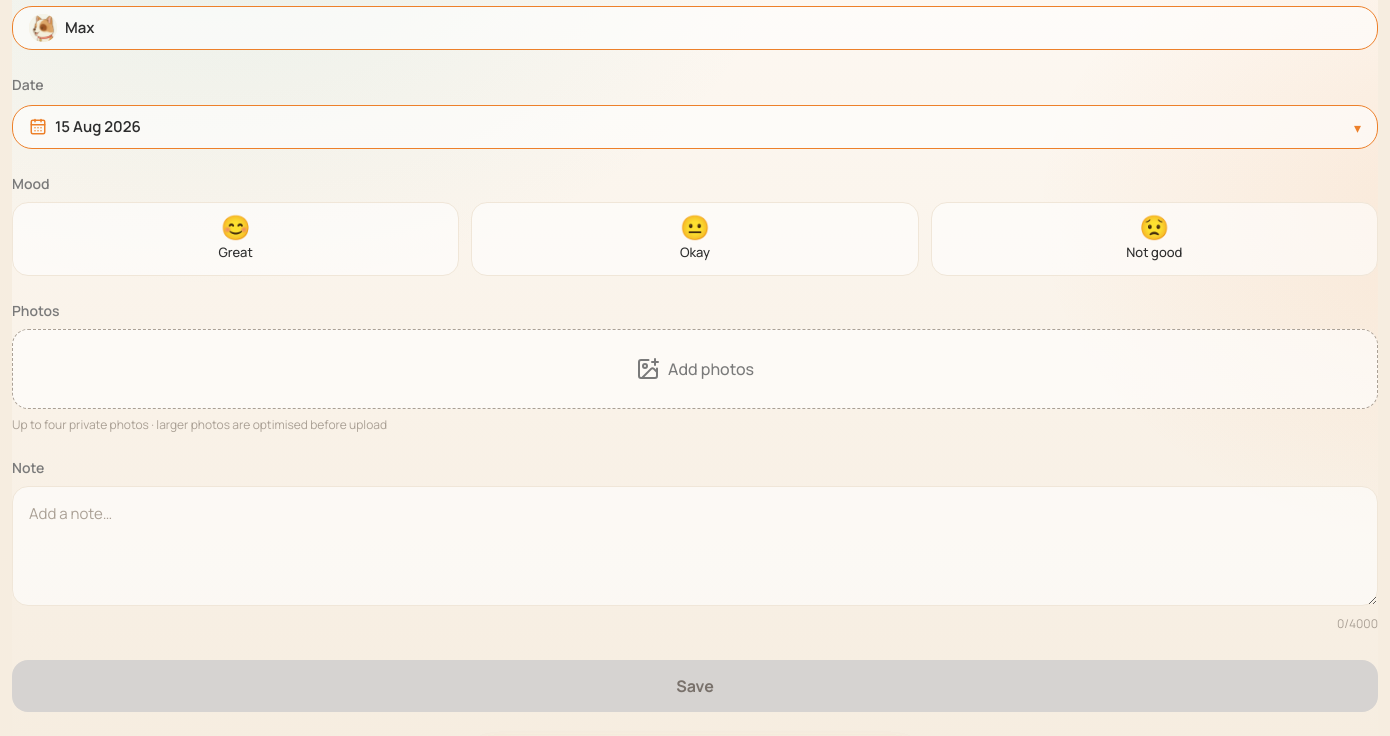
Test: HealthLogForm › keeps save disabled until a wellbeing status is selected
Expected: the button "Save" is disabled, [12,660,1378,712]
Click the button "😊 Great".
click(236, 239)  # box [12,202,459,276]
(page scrolled)
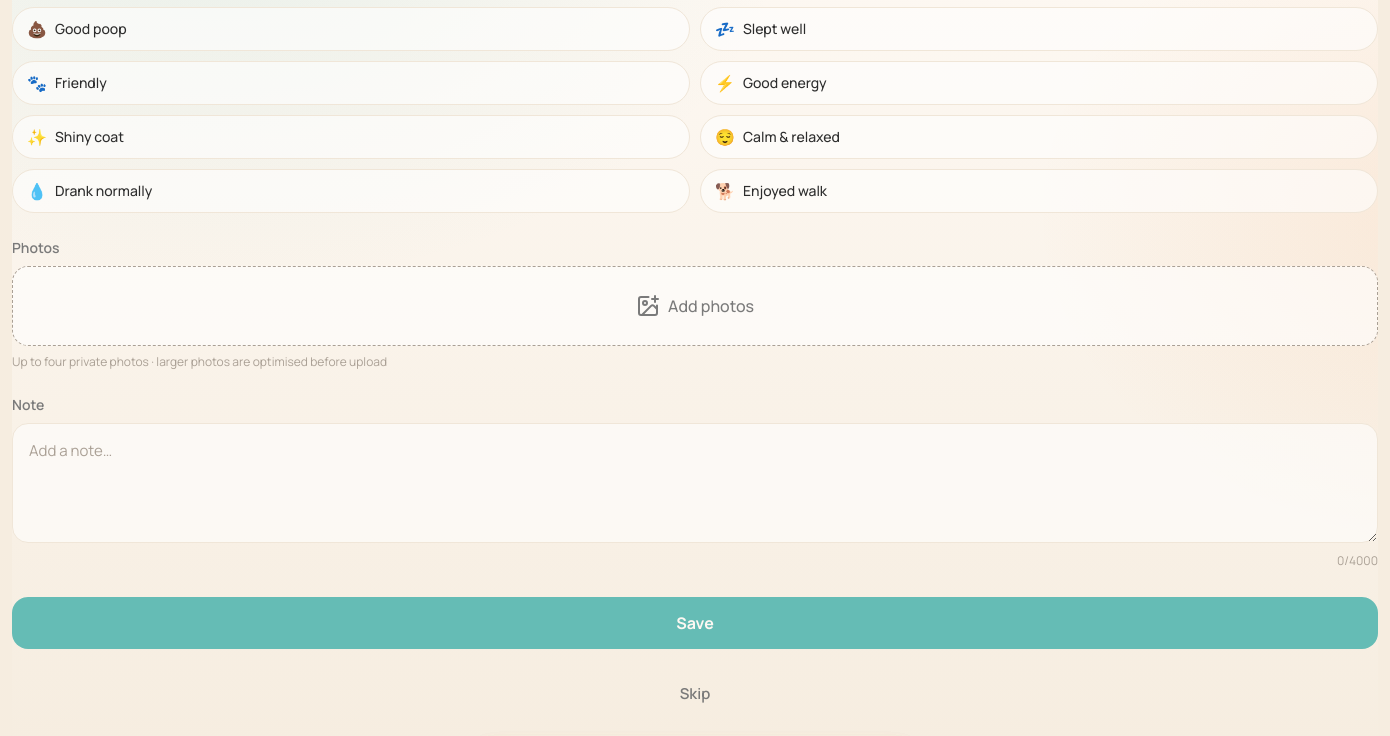
Expected: the text "Add photos" is shown, [668,294,754,318]
Now the button "Save" is enabled, box [12,596,1378,648]
Now the button "🐕 Enjoyed walk" is shown, box [700,168,1378,212]
